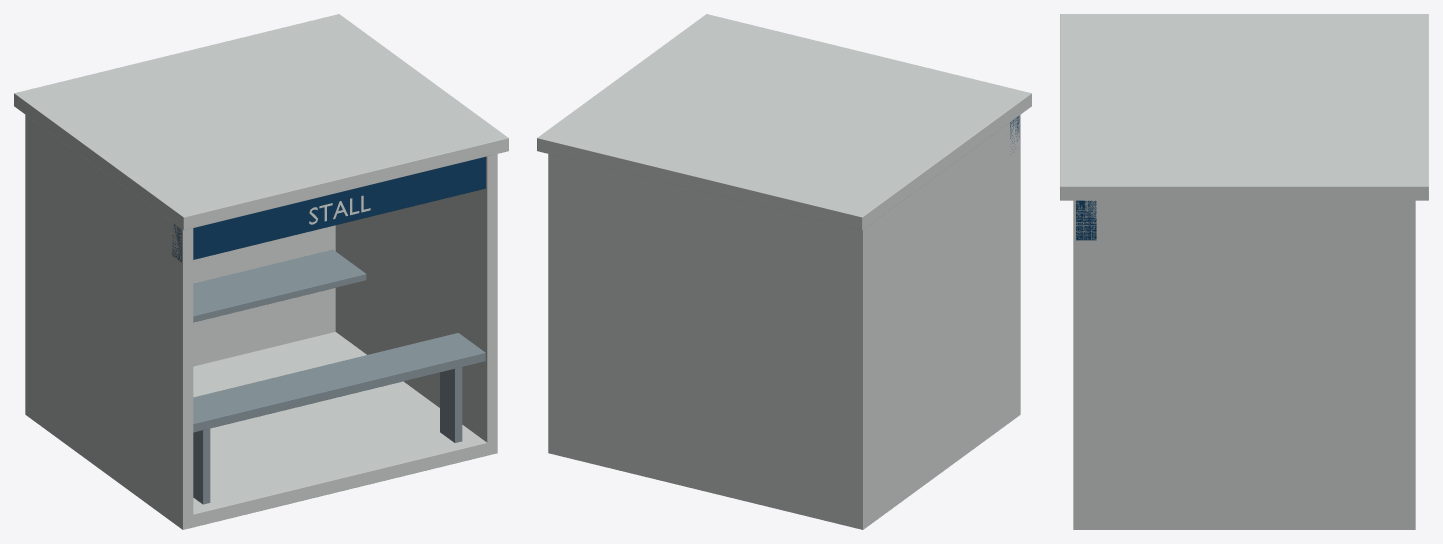
The picture shows the model from 3 angles, left to right: view 1: azimuth 30°, elevation 25°; view 2: azimuth 150°, elevation 25°; view 3: azimuth 270°, elevation 25°; orthographic projection. The views are drawn at different scales.
Visible parts, largest first — view 1: ROOF, SIDE_Wall, FLOOR, SIDE_Wall.001, SERVICE_Counter, REAR_Wall, HEADER, BACK_Worktop, COUNTER_Leg, COUNTER_Leg.001; view 2: REAR_Wall, ROOF, SIDE_Wall, FLOOR, SIDE_Wall.001; view 3: SIDE_Wall.001, ROOF, FLOOR, HEADER.
Boxes of the visible parts, x1,y1,x2,y2 form: ROOF: [14, 14, 508, 230]; SIDE_Wall: [25, 115, 193, 522]; FLOOR: [25, 332, 497, 529]; SIDE_Wall.001: [335, 154, 497, 442]; SERVICE_Counter: [193, 333, 485, 432]; REAR_Wall: [193, 225, 335, 366]; HEADER: [172, 156, 485, 262]; BACK_Worktop: [193, 249, 366, 322]; COUNTER_Leg: [440, 367, 462, 442]; COUNTER_Leg.001: [193, 428, 210, 504]; REAR_Wall: [553, 155, 857, 515]; ROOF: [537, 14, 1031, 230]; SIDE_Wall: [853, 115, 1020, 522]; FLOOR: [548, 403, 1020, 529]; SIDE_Wall.001: [548, 154, 558, 448]; SIDE_Wall.001: [1073, 200, 1415, 522]; ROOF: [1060, 14, 1428, 200]; FLOOR: [1073, 516, 1415, 529]; HEADER: [1076, 200, 1096, 240].
Size of the model in its own units: 3.1 by 2.9 by 2.8.
